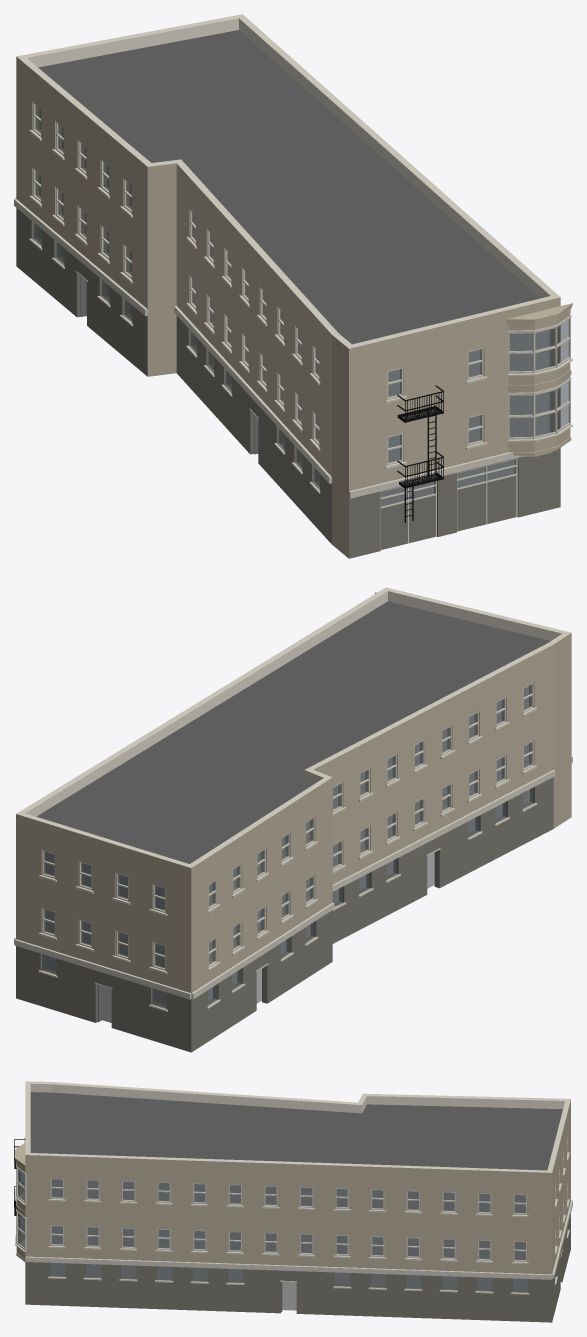
File: exterior.glb
3 renders of one model, top to bottom at view 1: azimuth 30°, elevation 25°; view 2: azimuth 150°, elevation 25°; view 3: azimuth 270°, elevation 25°, orthographic. The views are drawn at different scales.
Visible parts, largest first — view 1: shell, roof, glazing, trim, storefront, bay-glazing-hyb, shadow-proxy, frames, bay-windows-hyb, fire-escape; view 2: shell, roof, glazing, trim, shadow-proxy, frames; view 3: shell, roof, glazing, shadow-proxy, trim, frames, bay-glazing-hyb, bay-windows-hyb.
Part boxes in pixels (x1,y1,x2,y2): shell: (16,14,560,558); roof: (38,30,540,344); glazing: (34,105,515,506); trim: (14,130,551,498); storefront: (76,271,517,549); bay-glazing-hyb: (508,315,572,441); shadow-proxy: (38,108,548,505); frames: (33,102,483,465); bay-windows-hyb: (506,303,572,456); fire-escape: (397,385,443,522); shell: (16,587,571,1052); roof: (36,601,550,863); glazing: (42,685,532,1008); trim: (14,707,572,1011); shadow-proxy: (45,686,529,1022); frames: (42,683,533,970); shell: (25,1081,570,1322); roof: (30,1092,562,1170); glazing: (49,1179,527,1292); shadow-proxy: (50,1179,527,1310); trim: (23,1137,572,1294); frames: (50,1136,567,1261); bay-glazing-hyb: (15,1162,26,1251); bay-windows-hyb: (14,1142,25,1261).
Bounding box in the file's own units: 13.86 × 10.45 × 35.38.
